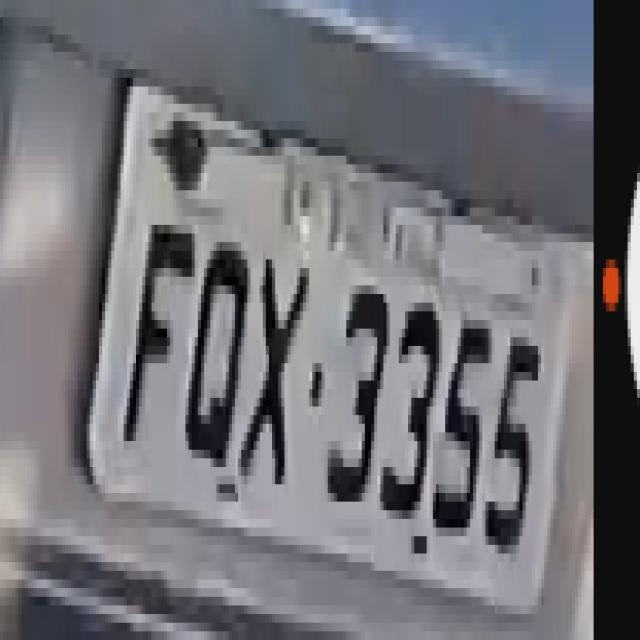Placa_mercosul_carro: (87, 72, 575, 619)
